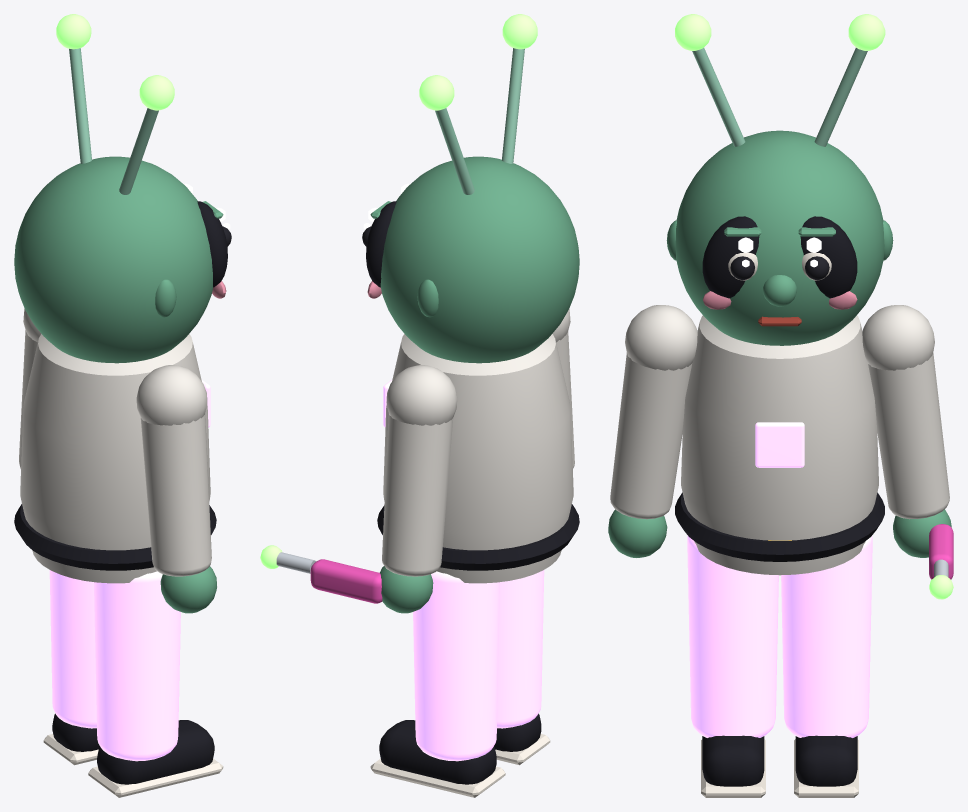
Rendered from alien.glb.
3 renders of one model, left to right at view 1: azimuth 30°, elevation 25°; view 2: azimuth 150°, elevation 25°; view 3: azimuth 270°, elevation 25°, orthographic. The views are drawn at different scales.
Visible parts, largest first — view 1: alien; view 2: alien; view 3: alien.
Part boxes in pixels (x1,y1,x2,y2): alien: (14,14,231,797); alien: (260,14,579,797); alien: (608,14,953,797).
Size of the model in its own units: 0.4399 by 1.33 by 0.5568.
Materials: 1 (1 with a texture image).
